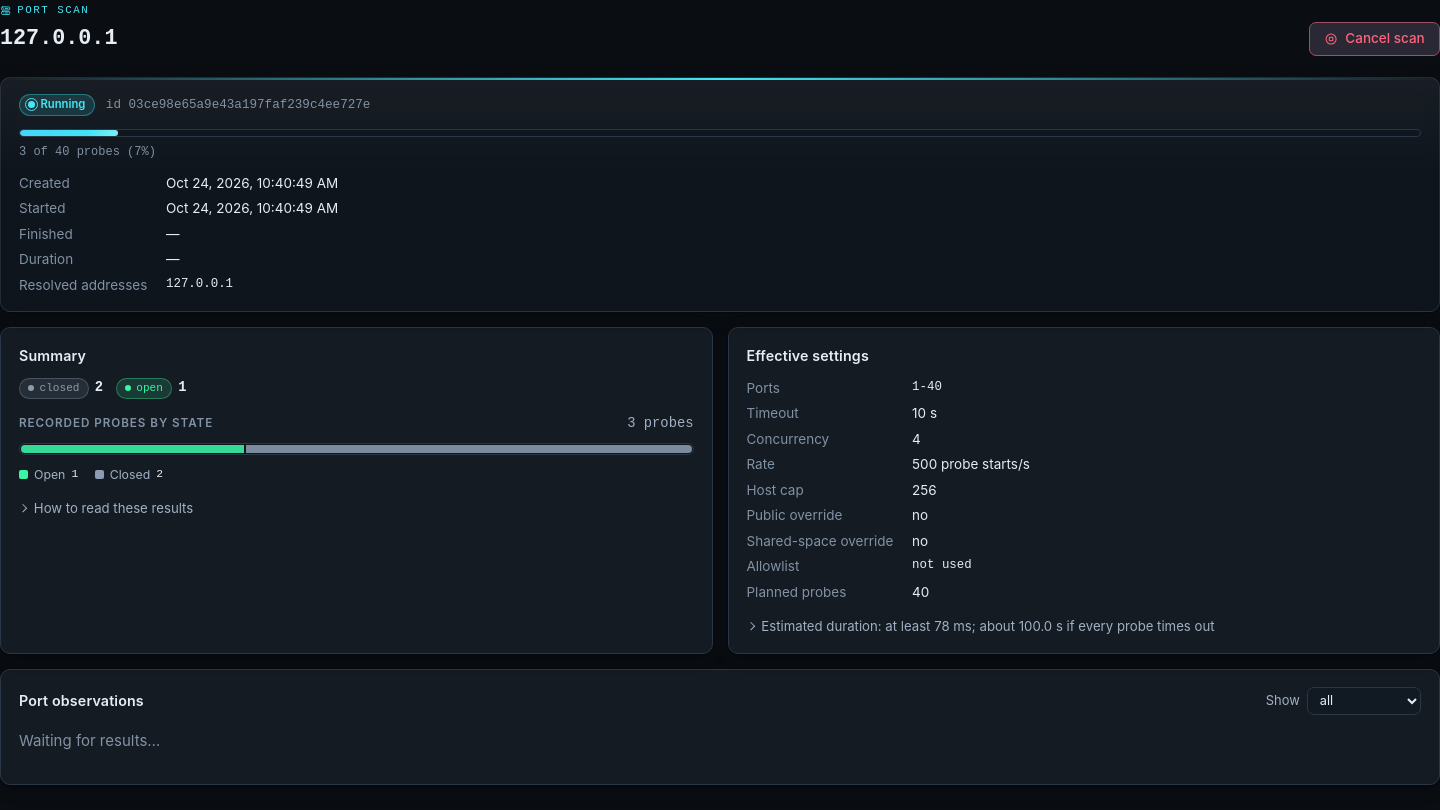
Test case: Scan detail › shows live progress and cancels a running scan, waiting for the server to confirm
Expected: the text "3 of 40 probes (7%)" is shown, [19,145,156,159]
Expected: the link "Export JSON" is not shown
Click the button "Cancel scan" at (1375, 39), box [1309,22,1439,56]
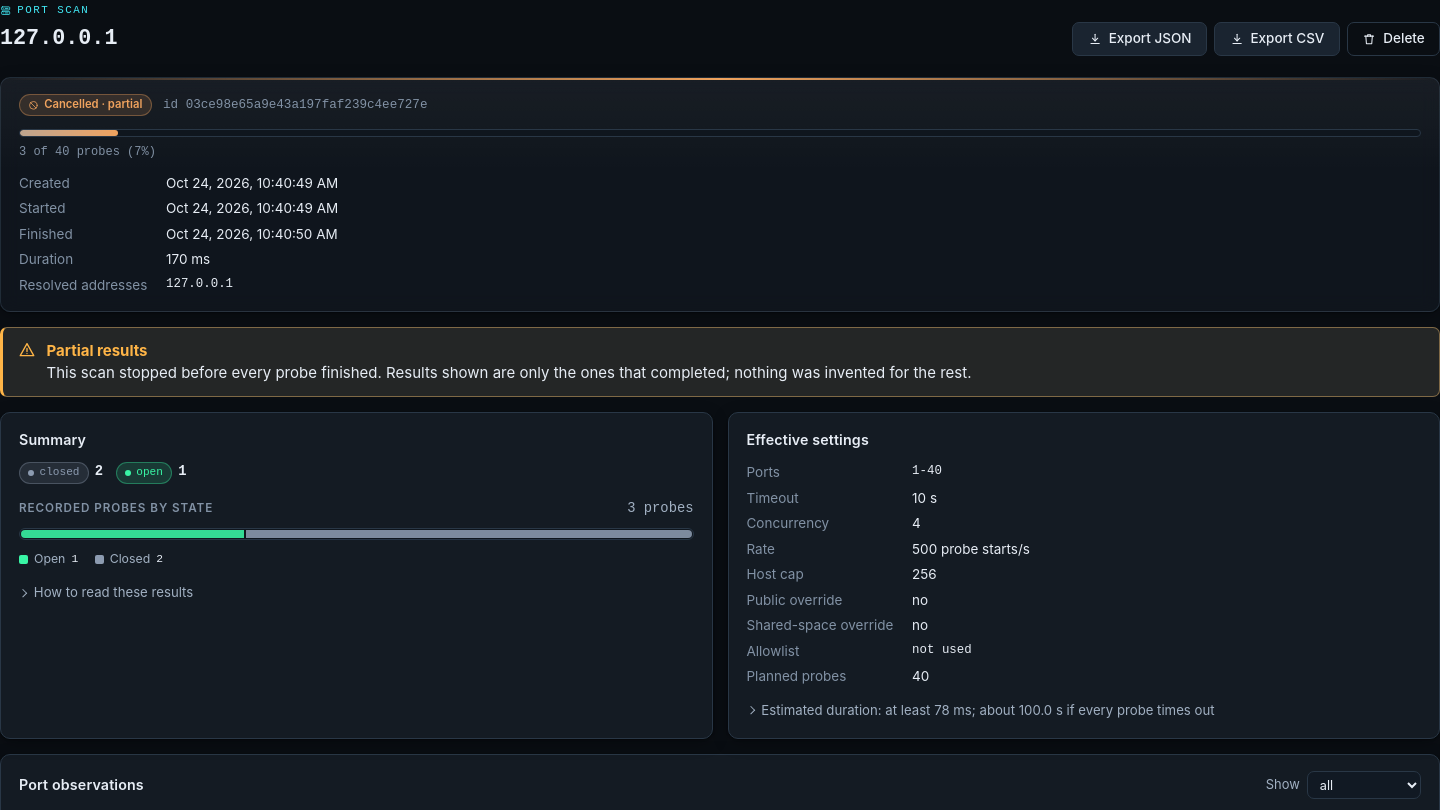
Expected: the element with test id "status-badge" reads "Cancelled · partial", [19,94,152,116]
Expected: the text "Partial results" is shown, [46,341,148,360]
Expected: the link "Export JSON" is shown, [1072,22,1207,56]
